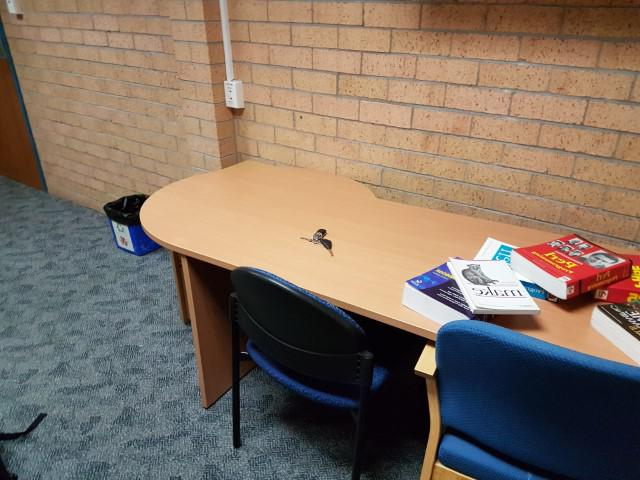key: (320, 238, 335, 256)
